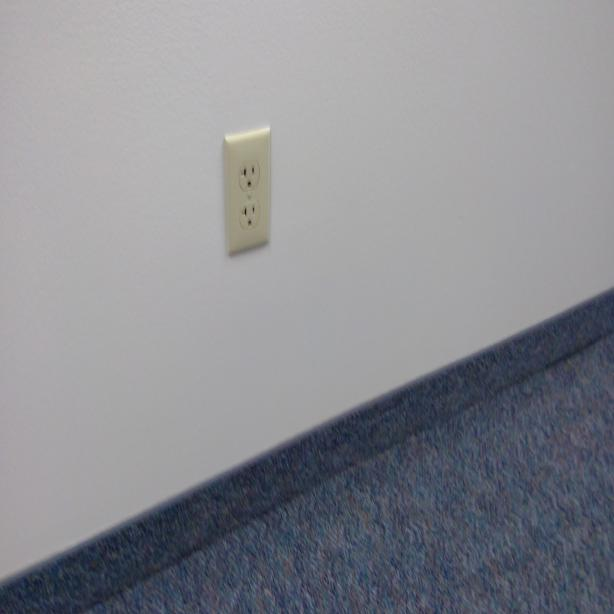typeb: (239, 200, 261, 232), (238, 162, 260, 191)
